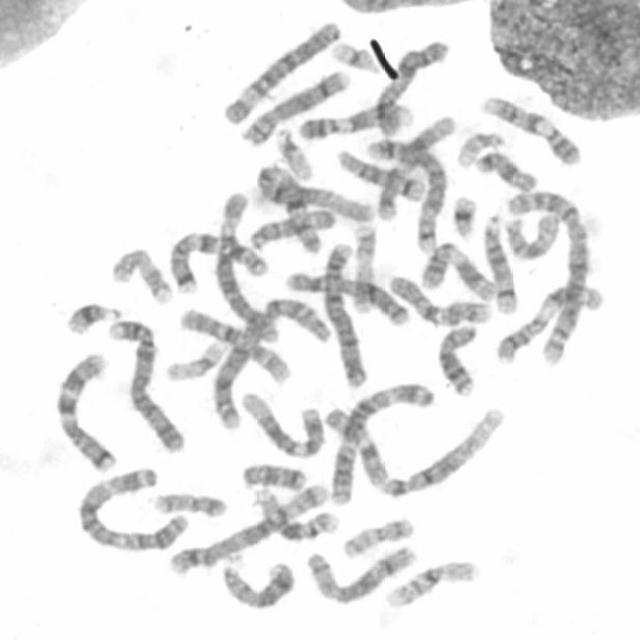A1: (319, 390, 511, 502), (251, 166, 377, 254)
A2: (207, 288, 334, 433), (503, 181, 594, 367)
A3: (326, 373, 439, 507), (72, 459, 194, 553)
B4: (103, 311, 188, 454), (318, 235, 372, 390)
B5: (163, 474, 335, 577), (361, 130, 450, 254)
C10: (175, 302, 294, 386), (383, 266, 496, 328)
C11: (490, 277, 608, 365), (416, 235, 501, 302)
C12: (373, 108, 460, 222), (235, 383, 328, 460)
C6: (217, 12, 346, 126), (211, 182, 283, 346)
C7: (51, 345, 122, 473), (165, 225, 274, 294)
C8: (235, 61, 354, 147), (301, 538, 420, 606)
C9: (477, 87, 586, 167), (292, 95, 416, 142)
D13: (216, 550, 298, 612), (433, 316, 483, 398)
D14: (332, 142, 427, 202), (478, 208, 522, 316)
D15: (245, 202, 339, 250), (501, 206, 563, 262)
E16: (381, 552, 484, 610), (249, 482, 343, 542)
E17: (106, 240, 178, 306), (346, 215, 381, 316)
E18: (471, 144, 542, 194), (236, 456, 310, 491)
F19: (160, 333, 227, 382), (327, 34, 381, 74)
F20: (338, 510, 418, 560), (149, 484, 230, 520)
G21: (60, 294, 126, 337), (447, 188, 481, 240)
G22: (270, 121, 316, 180), (452, 124, 509, 169)
X: (281, 264, 413, 328), (372, 40, 450, 141)
